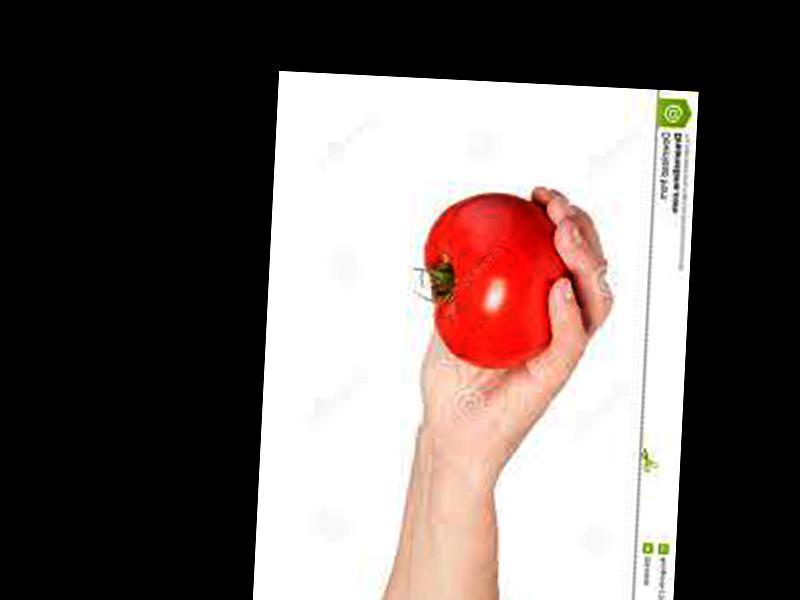Tomato: (417, 189, 573, 374)
